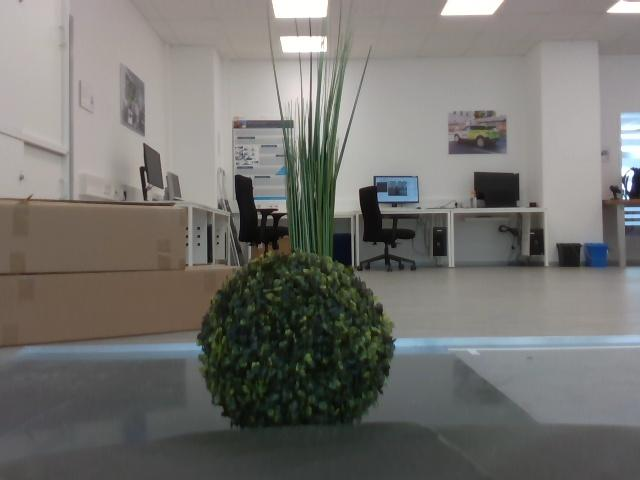potted plant: (188, 248, 396, 429), (265, 14, 376, 247)
